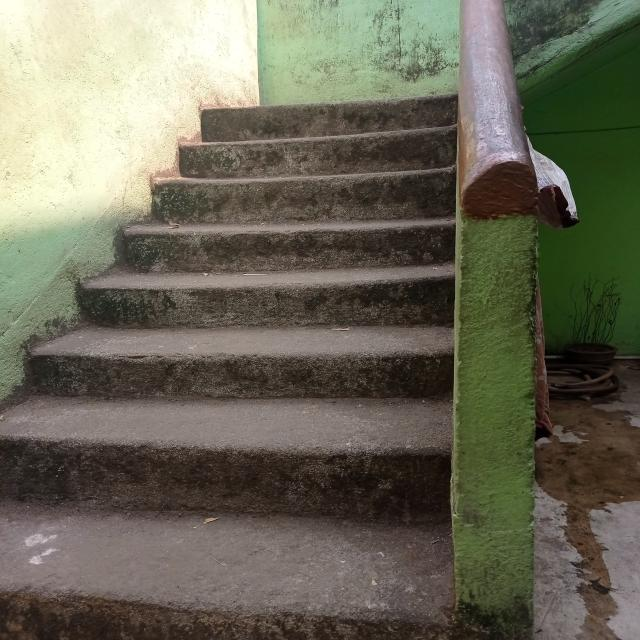Stairs: (9, 49, 588, 584)
